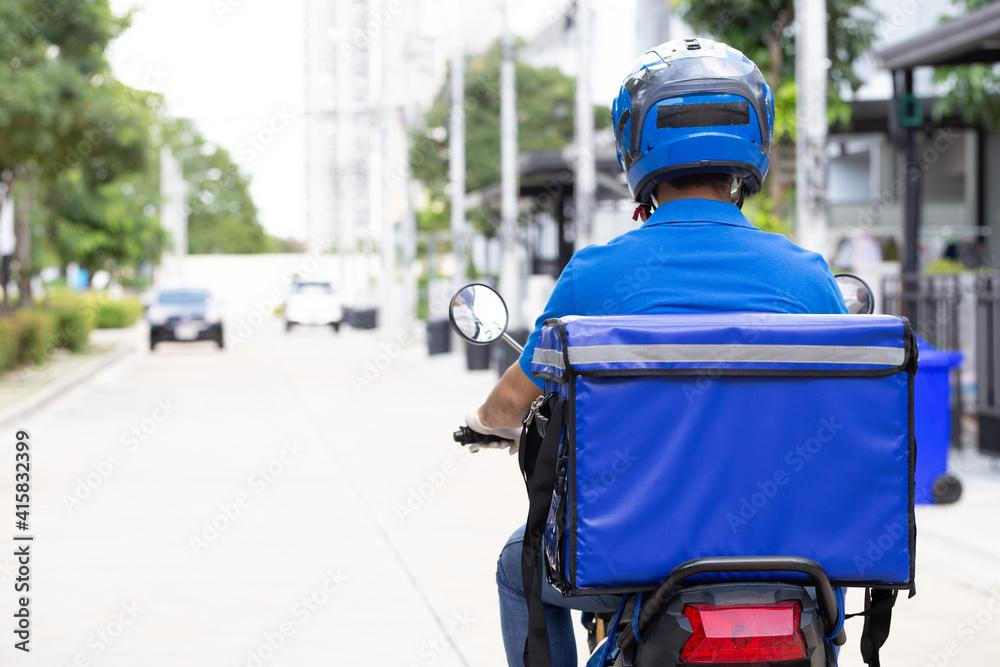helmet: (610, 36, 776, 223)
